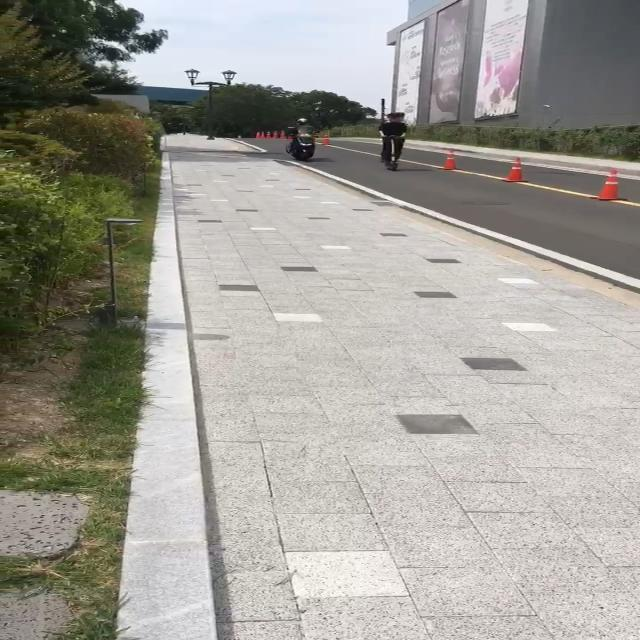obstacle: (369, 104, 415, 172), (581, 163, 637, 205), (279, 111, 326, 160), (419, 142, 462, 172), (492, 153, 533, 182)
sidewalk: (166, 150, 640, 640), (403, 140, 640, 179), (170, 135, 261, 153)
